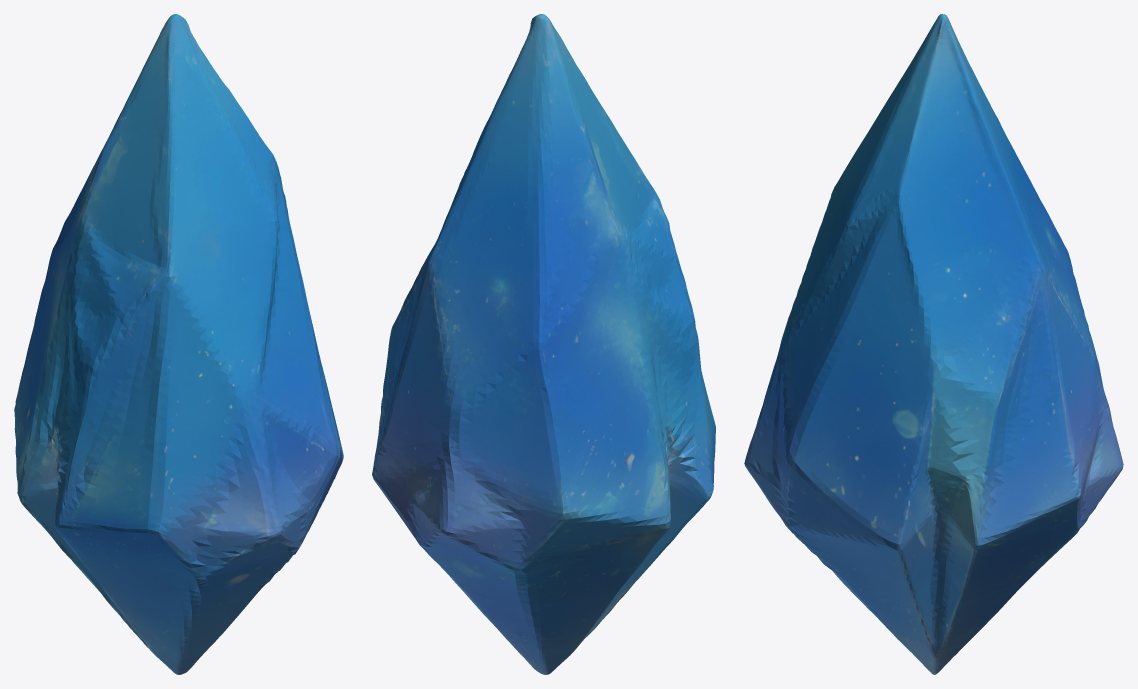
The picture shows the model from 3 angles, left to right: view 1: azimuth 30°, elevation 25°; view 2: azimuth 150°, elevation 25°; view 3: azimuth 270°, elevation 25°; orthographic projection.
Parts seen in each view (by area): view 1: tripo_node_02a4dd7b-4d63-4624-98e5-03a98943534d; view 2: tripo_node_02a4dd7b-4d63-4624-98e5-03a98943534d; view 3: tripo_node_02a4dd7b-4d63-4624-98e5-03a98943534d.
Part boxes in pixels (x1,y1,x2,y2): tripo_node_02a4dd7b-4d63-4624-98e5-03a98943534d: [14, 14, 343, 674]; tripo_node_02a4dd7b-4d63-4624-98e5-03a98943534d: [372, 14, 715, 674]; tripo_node_02a4dd7b-4d63-4624-98e5-03a98943534d: [744, 14, 1123, 674].
Size of the model in its own units: 0.4607 by 0.9973 by 0.5205.
1 material, 1 textured.
